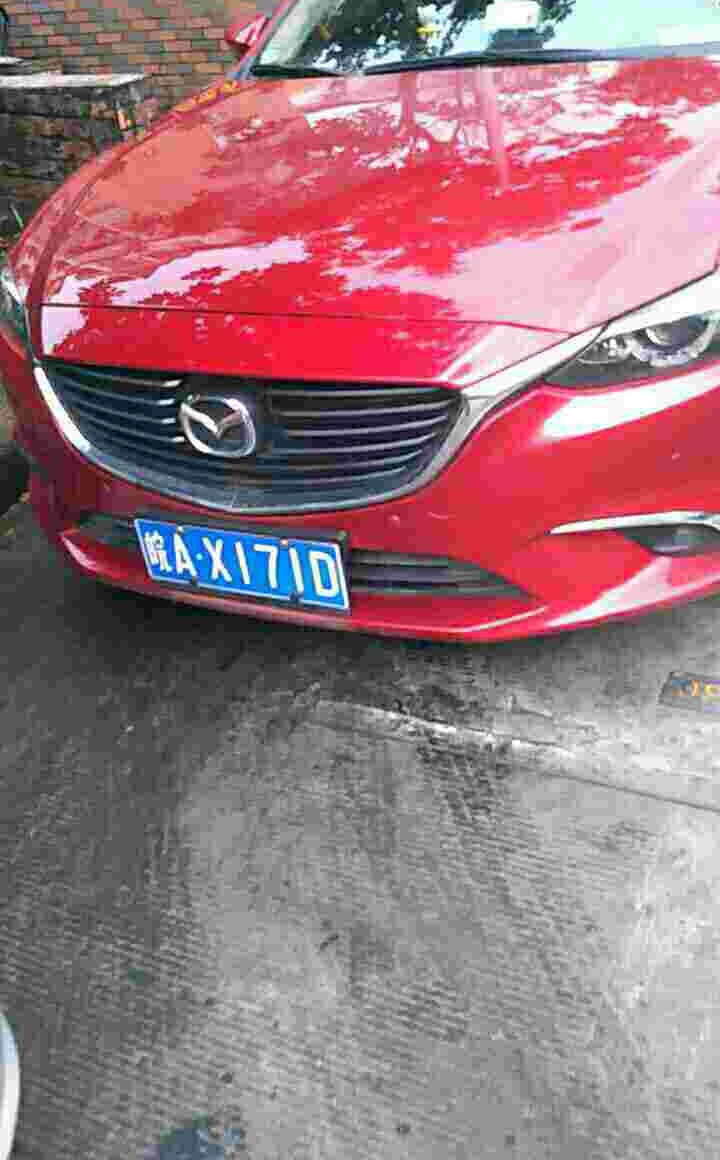plate: (130, 511, 356, 614)
